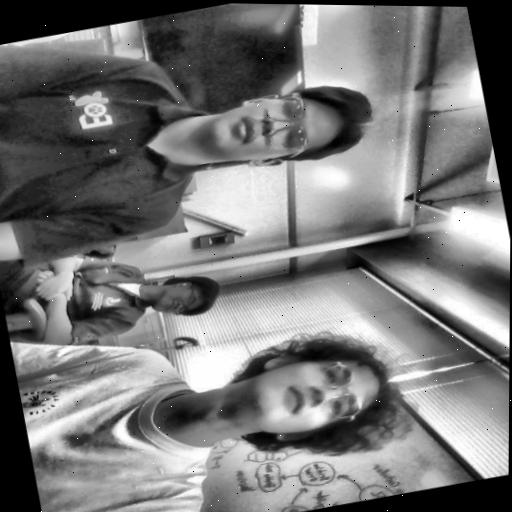Daifuku: (210, 318, 421, 483)
Not Daifuku: (194, 72, 383, 189), (146, 268, 229, 325)
